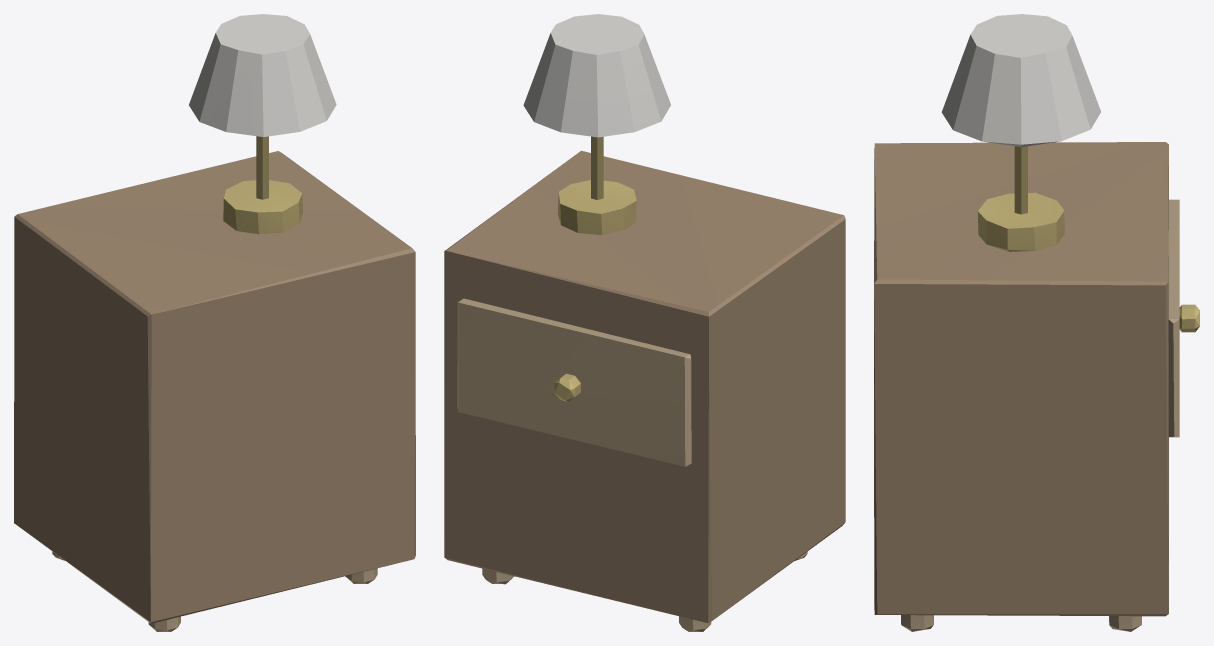
The model's file is furn_nightstand__walnut_low.glb.
The picture shows the model from 3 angles, left to right: view 1: azimuth 30°, elevation 25°; view 2: azimuth 150°, elevation 25°; view 3: azimuth 270°, elevation 25°; orthographic projection. The views are drawn at different scales.
Size of the model in its own units: 0.45 by 0.8395 by 0.4386.
